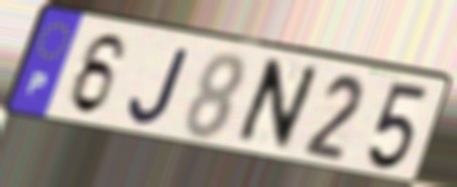2: (300, 73, 367, 165)
5: (361, 78, 435, 174)
6: (66, 31, 130, 119)
8: (182, 50, 252, 144)
J: (126, 45, 193, 127)
N: (228, 56, 324, 155)
